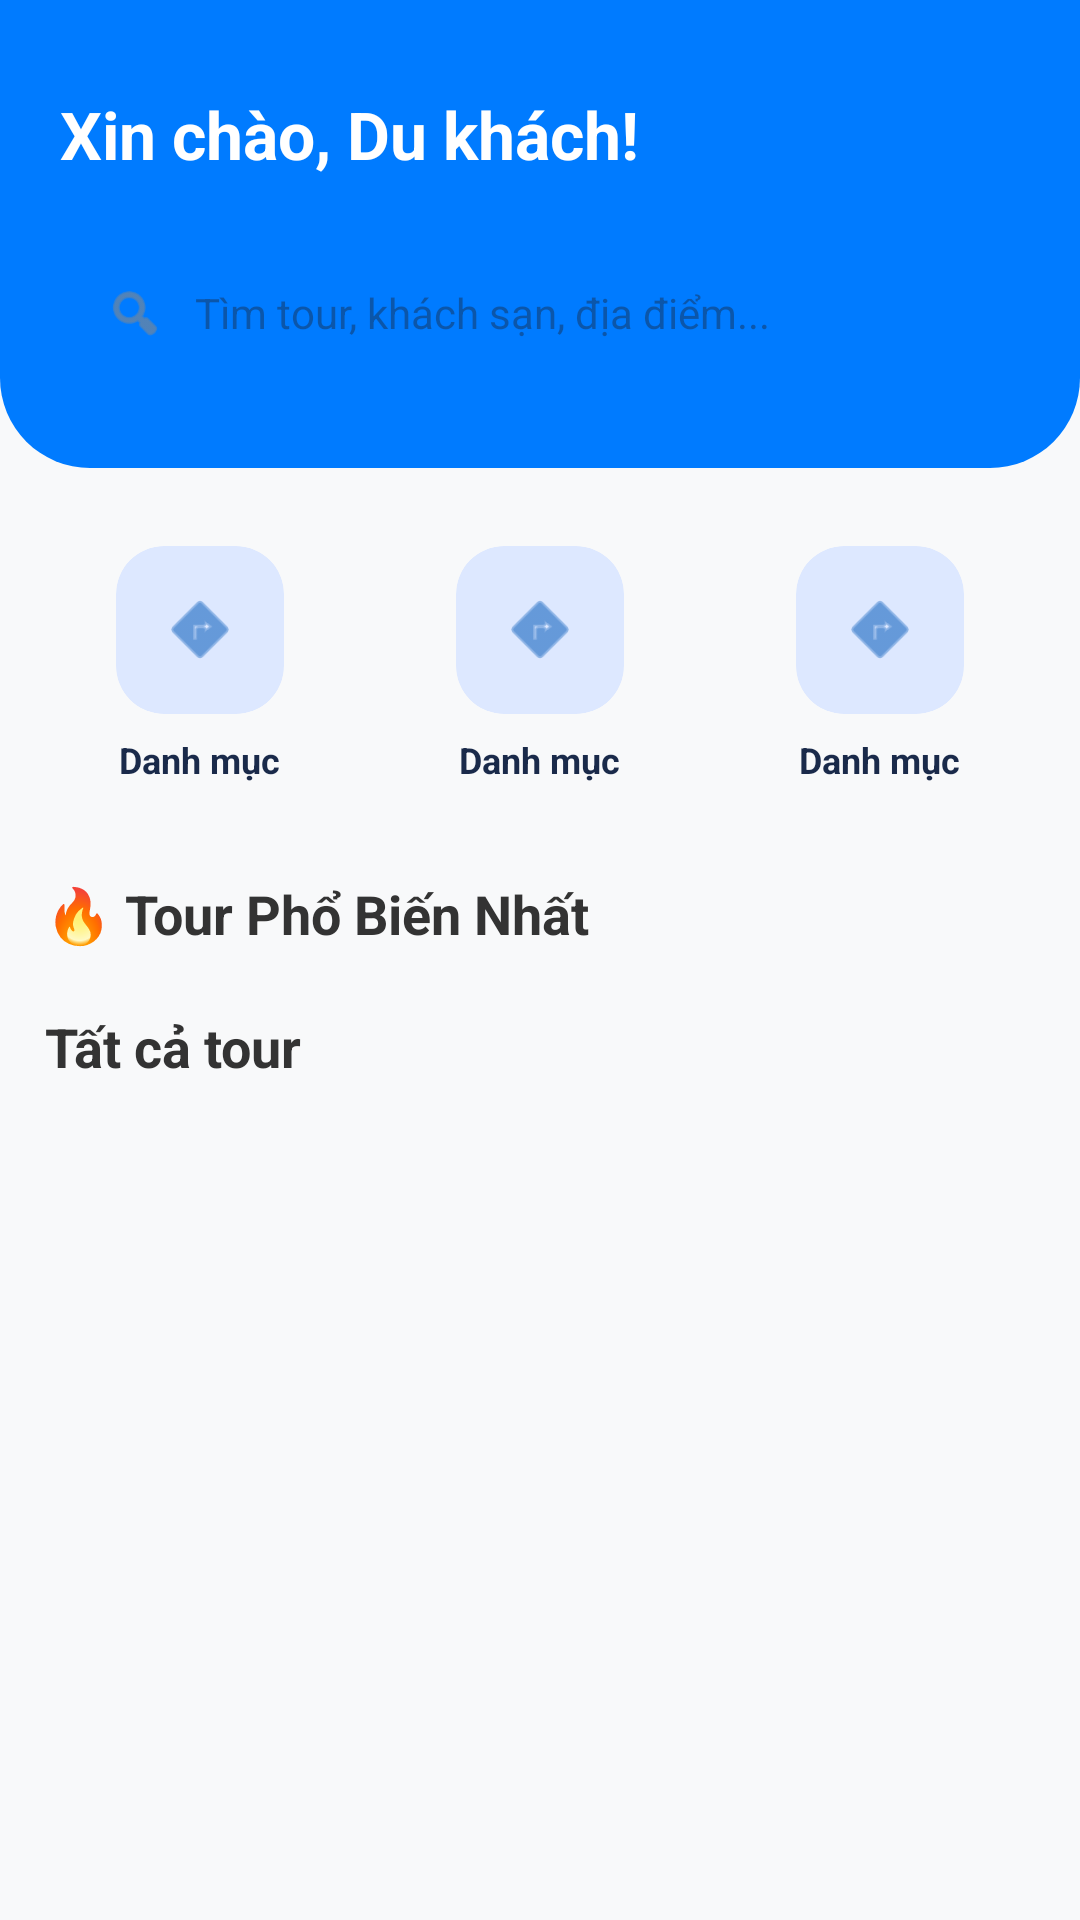

Screen size 1080w x 1920h. Icon name, then its center in pixels as [x,y]:
directions: [200,630], [540,630], [880,630]
search: [135,313]
